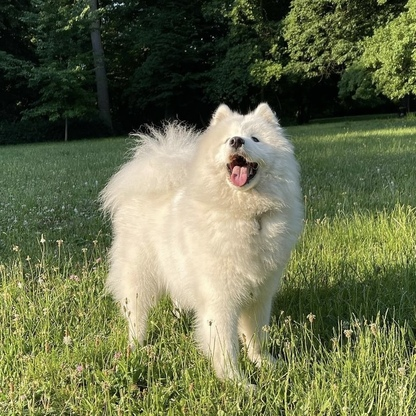samoyed: (90, 99, 307, 389)
